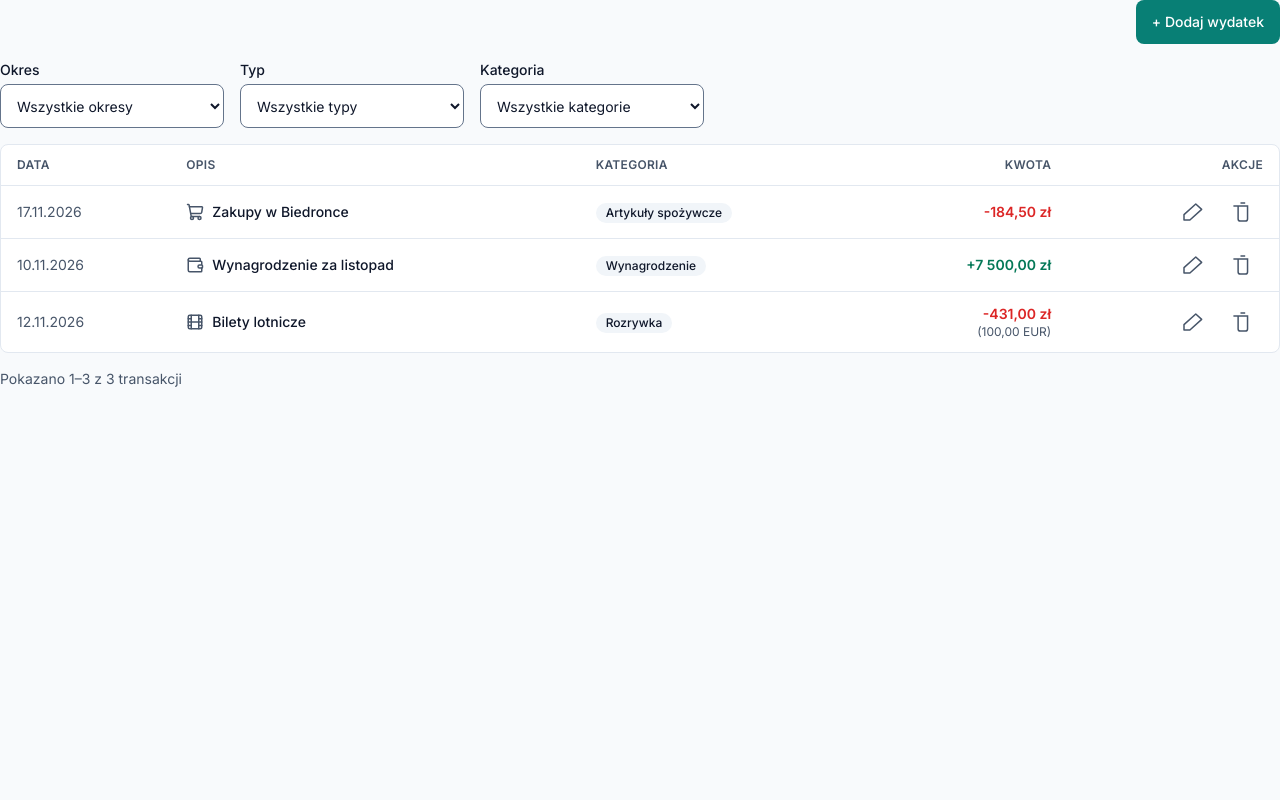
Test: TransactionsView › deleting a transaction › opens the confirmation from the trash button without sending anything
The width and height of the screenshot is (1280, 800).
Click the button named "Usuń transakcję: Zakupy w Biedronce, 17.11.2026": (1241, 212) 1219,190 -> 1263,234
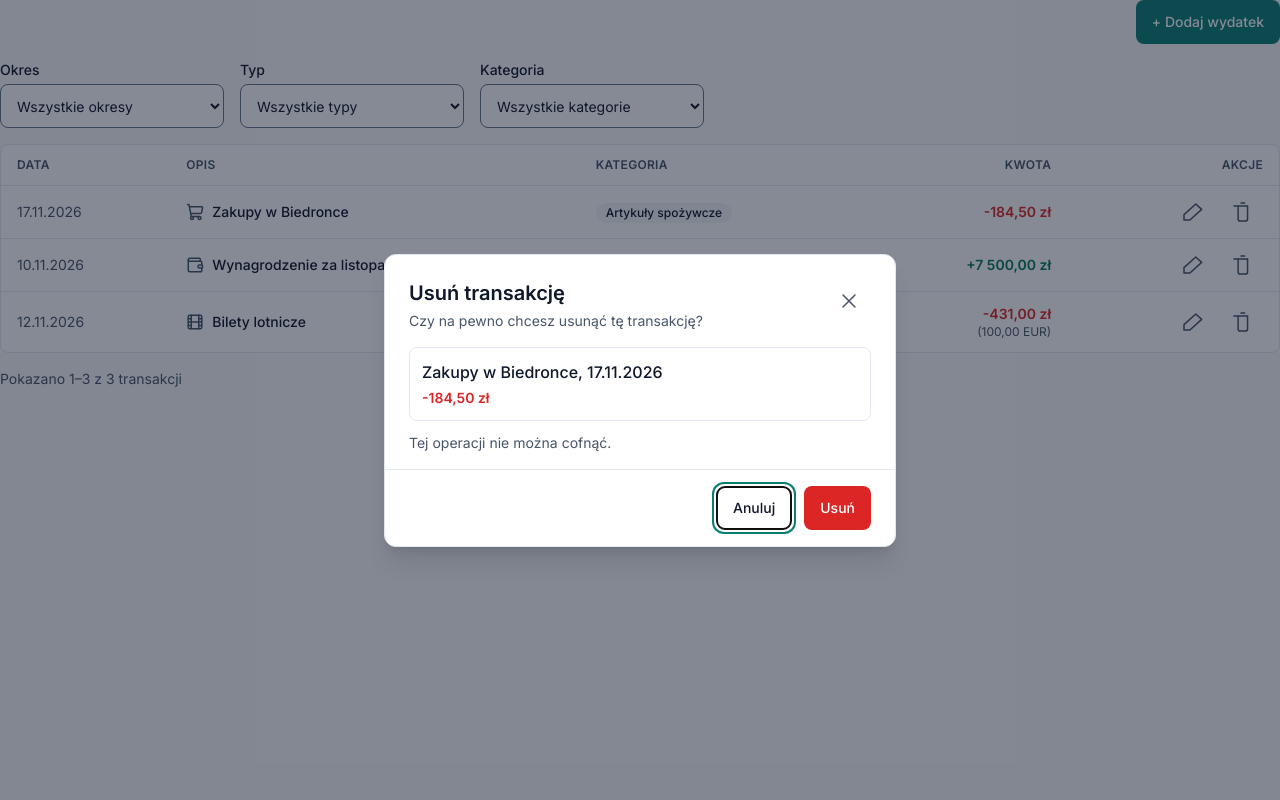
Check: the text "Czy na pewno chcesz usunąć tę transakcję?" is shown, box 409,310 -> 703,330
Check: the text "Zakupy w Biedronce, 17.11.2026" is shown, box 422,362 -> 663,382
